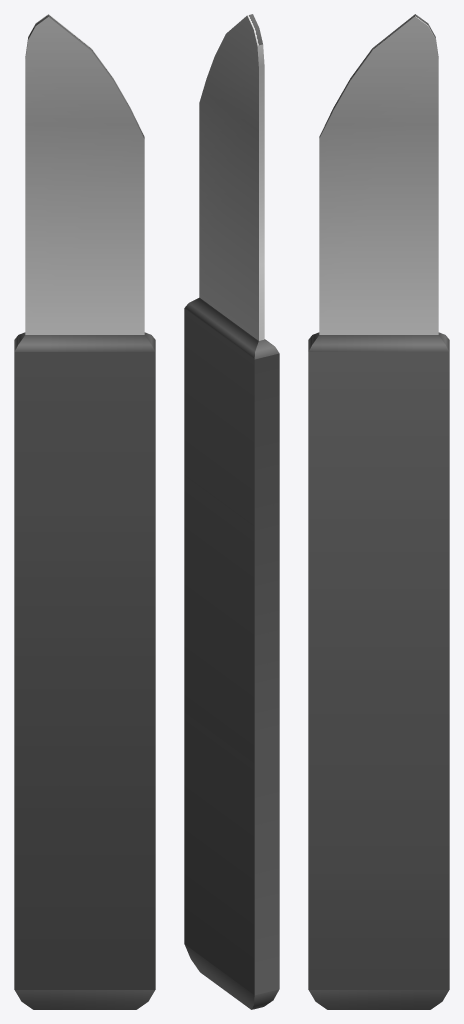
Rendered from bisturicontexturas.fbx.
3 views of the same model, side by side, from view 1: azimuth 90°, elevation 25°; view 2: azimuth 210°, elevation 25°; view 3: azimuth 270°, elevation 25° (orthographic).
Parts seen in each view (by area): view 1: pCube1; view 2: pCube1; view 3: pCube1.
Boxes of the visible parts, left/top/right/bottom form: pCube1: left=14, top=14, right=155, bottom=1009; pCube1: left=184, top=14, right=279, bottom=1009; pCube1: left=308, top=14, right=449, bottom=1009.
Bounding box in the file's own units: 0.0698 × 2.64 × 0.3402.
1 material, 1 textured.
